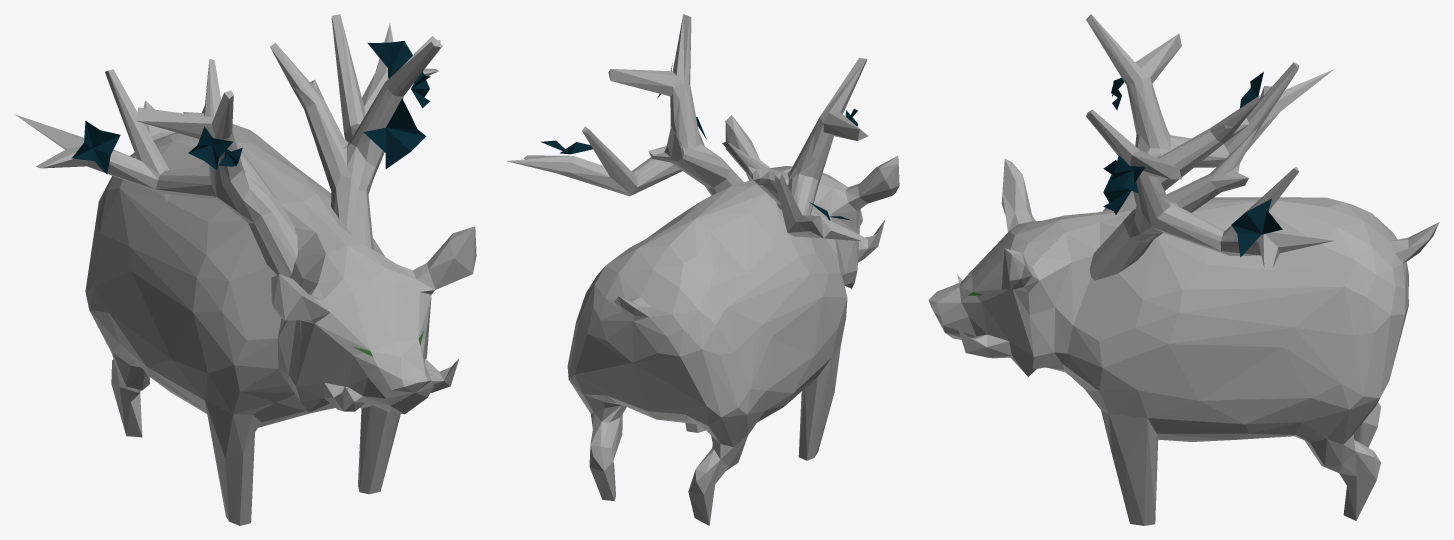
The model's file is CH_Boar01Fancy.fbx.
3 views of the same model, side by side, from view 1: azimuth 30°, elevation 25°; view 2: azimuth 150°, elevation 25°; view 3: azimuth 270°, elevation 25° (orthographic). The views are drawn at different scales.
Visible parts, largest first — view 1: CH_Boar01Fancy, CH_Boar01Horn02, CH_Boar01FancyFlower01; view 2: CH_Boar01Fancy, CH_Boar01Horn02, CH_Boar01FancyFlower01; view 3: CH_Boar01Fancy, CH_Boar01Horn02, CH_Boar01FancyFlower01.
Boxes of the visible parts, x1,y1,x2,y2 form: CH_Boar01Fancy: [85, 100, 476, 525]; CH_Boar01Horn02: [15, 14, 442, 277]; CH_Boar01FancyFlower01: [71, 41, 430, 174]; CH_Boar01Fancy: [567, 115, 899, 525]; CH_Boar01Horn02: [506, 14, 868, 241]; CH_Boar01FancyFlower01: [541, 63, 857, 220]; CH_Boar01Fancy: [928, 159, 1439, 525]; CH_Boar01Horn02: [1086, 14, 1334, 280]; CH_Boar01FancyFlower01: [1103, 72, 1282, 257].
Bounding box in the file's own units: 143 × 156 × 168.
